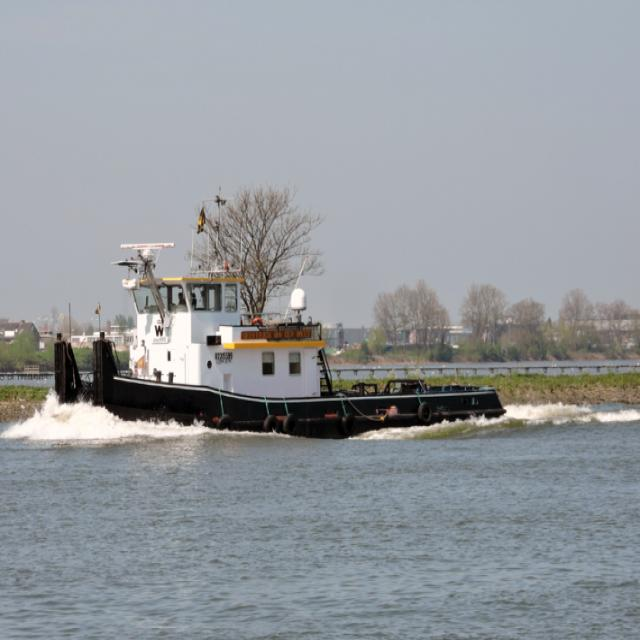tugboat: (52, 241, 511, 454)
